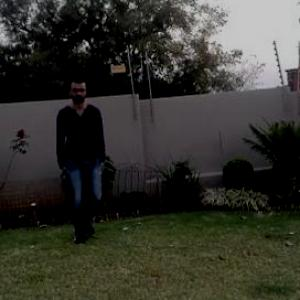follow: (55, 77, 110, 238)
